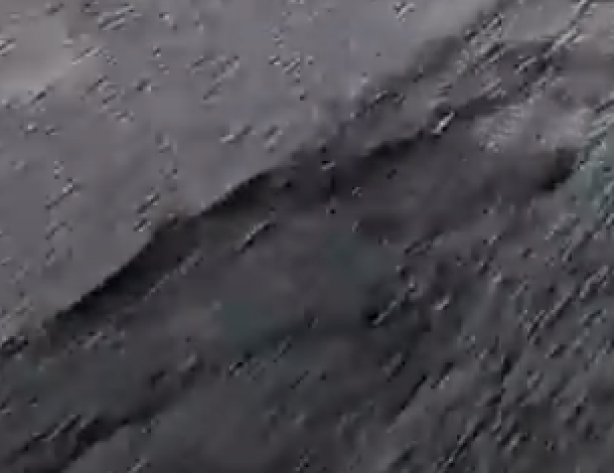Berlubang: (23, 152, 546, 434)
